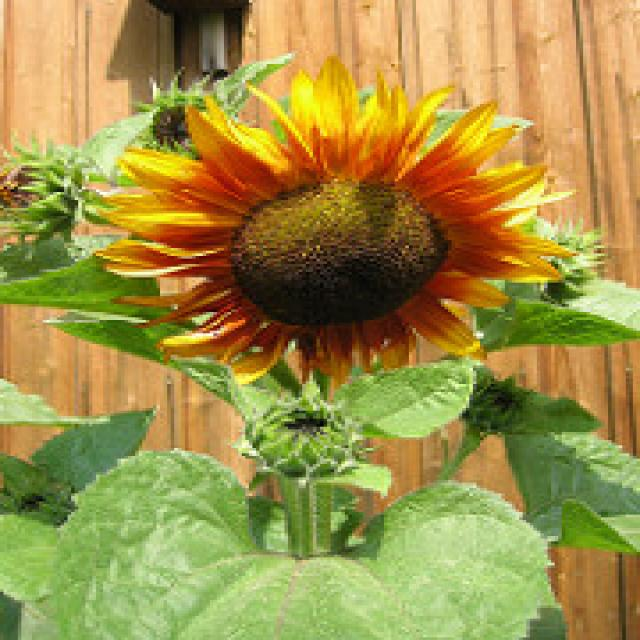sunflower: (118, 95, 548, 402)
